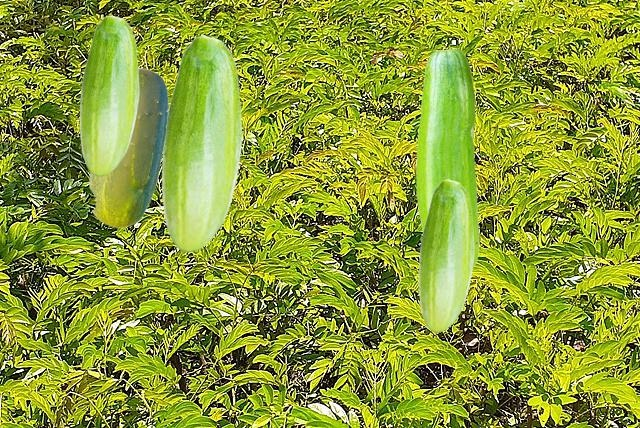cucumber: (161, 35, 241, 251), (416, 48, 478, 269), (88, 67, 167, 227), (79, 15, 138, 175), (418, 179, 473, 331)
